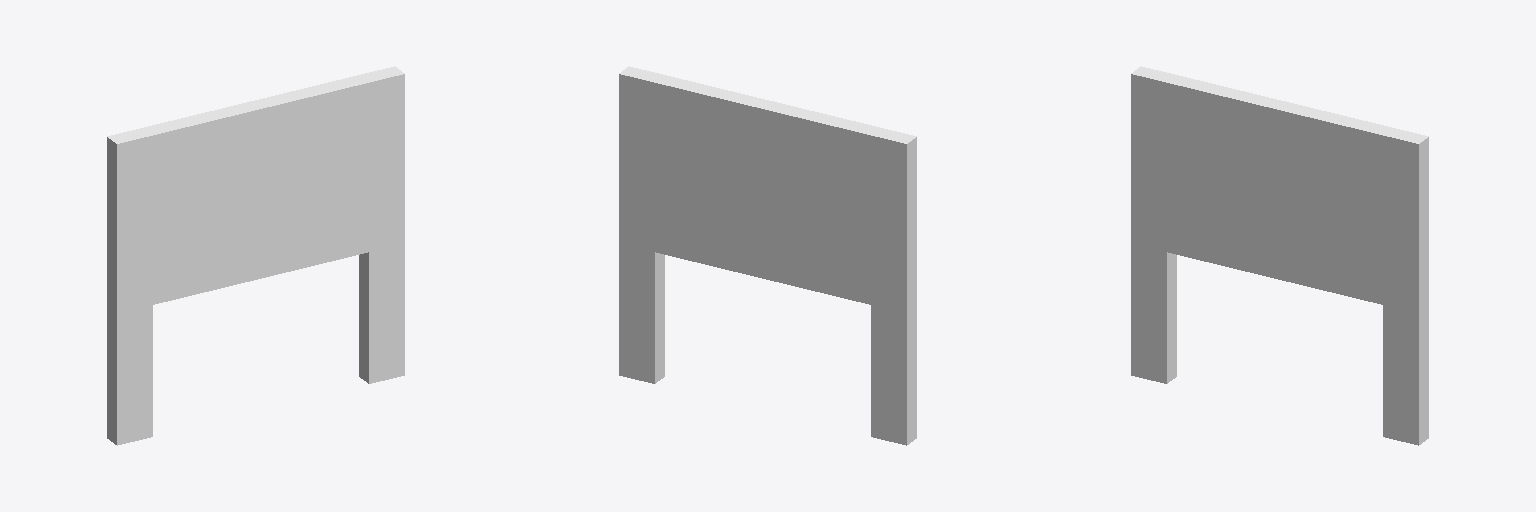
File: 1.vox.obj
3 views of the same model, side by side, from view 1: azimuth 30°, elevation 25°; view 2: azimuth 150°, elevation 25°; view 3: azimuth 330°, elevation 25° (orthographic).
Parts seen in each view (by area): view 1: object 1; view 2: object 1; view 3: object 1.
Boxes of the visible parts, x1,y1,x2,y2 form: object 1: [107, 66, 404, 445]; object 1: [619, 66, 916, 445]; object 1: [1131, 66, 1428, 445].
Bounding box in the file's own units: 1.6 × 1.6 × 0.1.